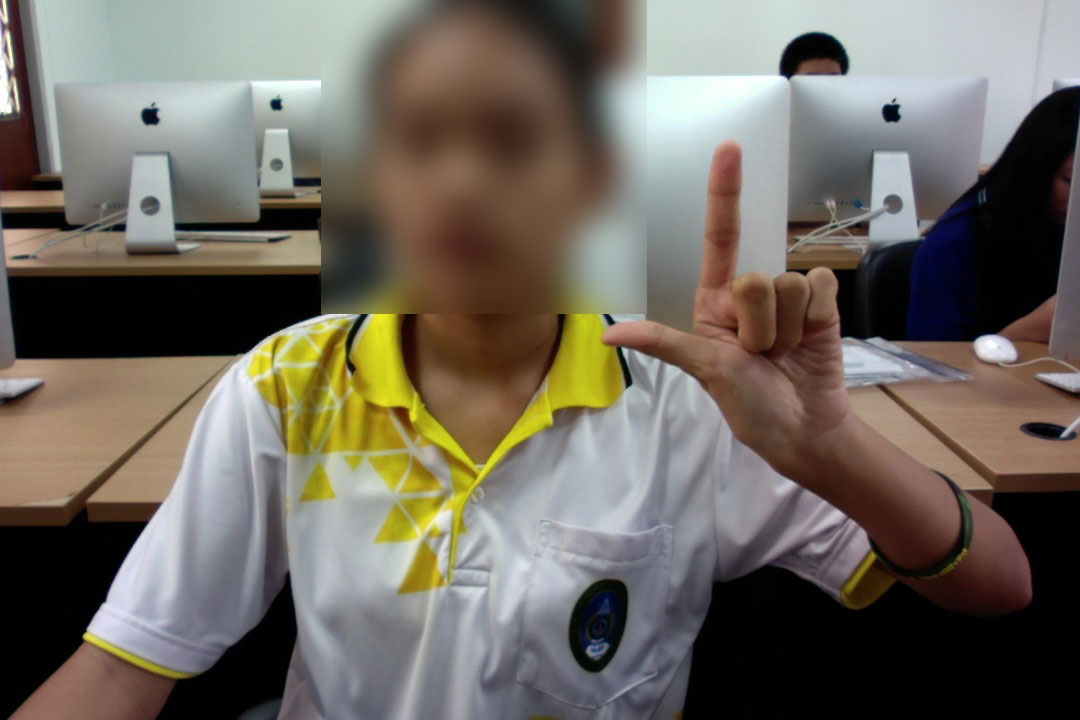lor: (598, 132, 876, 480)
